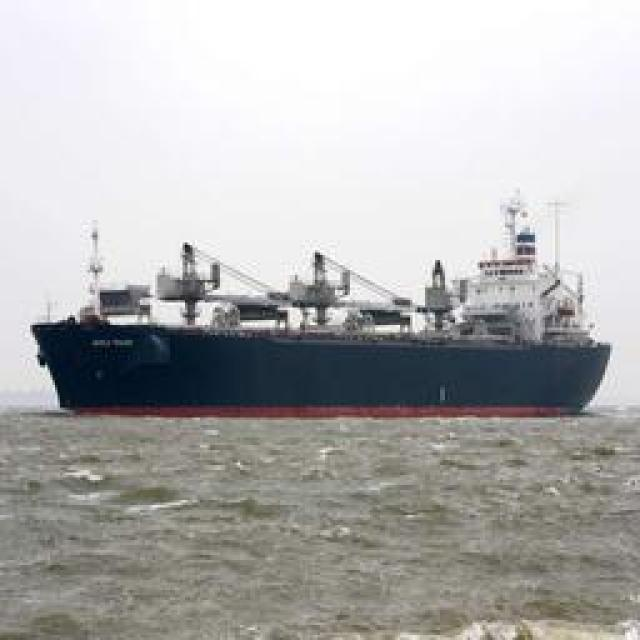ship2: (28, 188, 611, 419)
